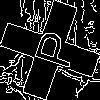P: (25, 25, 79, 72)
